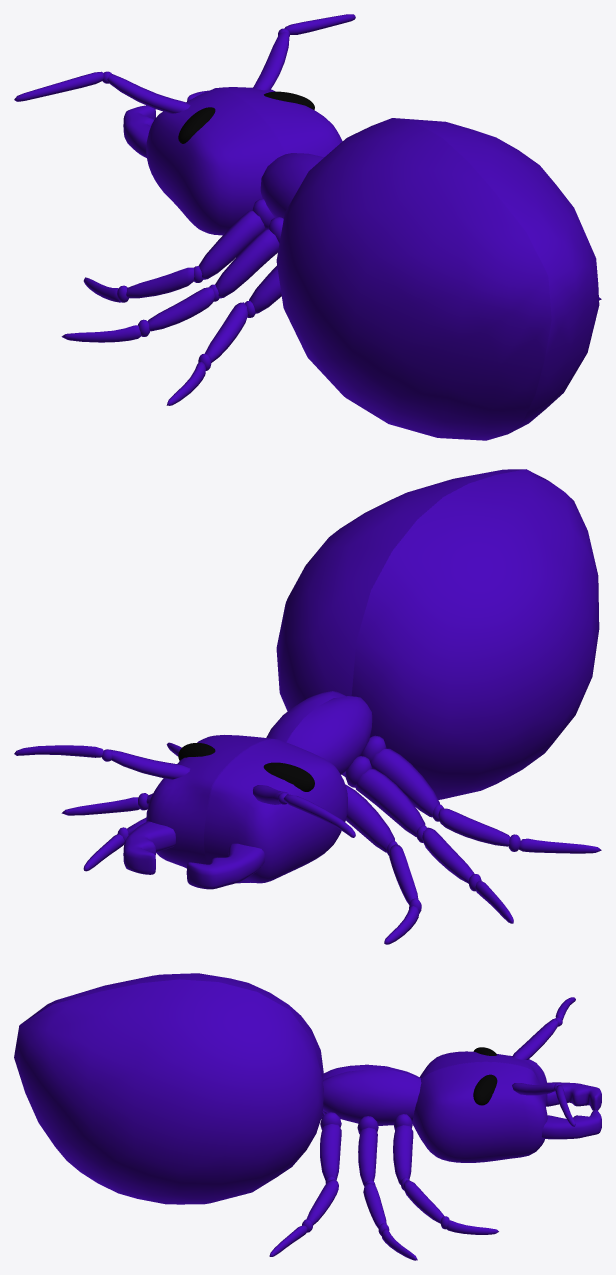
File: reine bleue.fbx
3 views of the same model, one above another, from view 1: azimuth 30°, elevation 25°; view 2: azimuth 150°, elevation 25°; view 3: azimuth 270°, elevation 25° (orthographic). The views are drawn at different scales.
Parts seen in each view (by area): view 1: Reine bleue; view 2: Reine bleue; view 3: Reine bleue.
Boxes of the visible parts, x1=… form: Reine bleue: x1=14, y1=14, x2=601, y2=440; Reine bleue: x1=14, y1=469, x2=601, y2=944; Reine bleue: x1=14, y1=973, x2=601, y2=1260.
Bounding box in the file's own units: 3.31 × 2 × 4.88.
